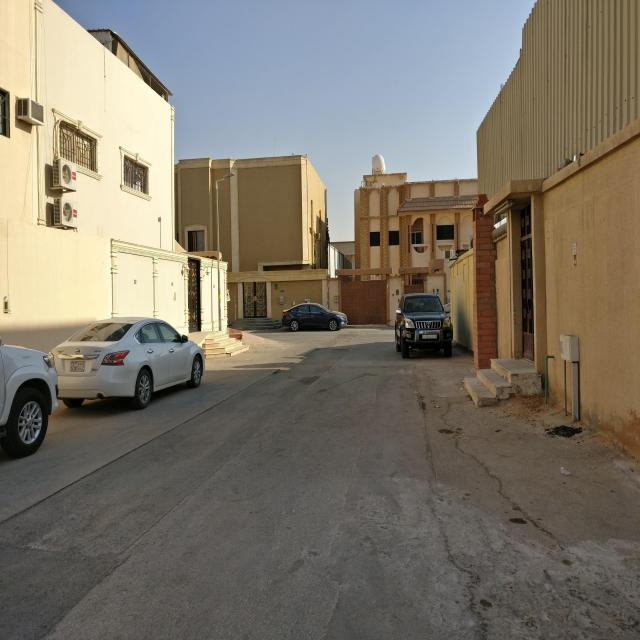license_plate: (70, 361, 86, 372), (422, 334, 437, 338)
